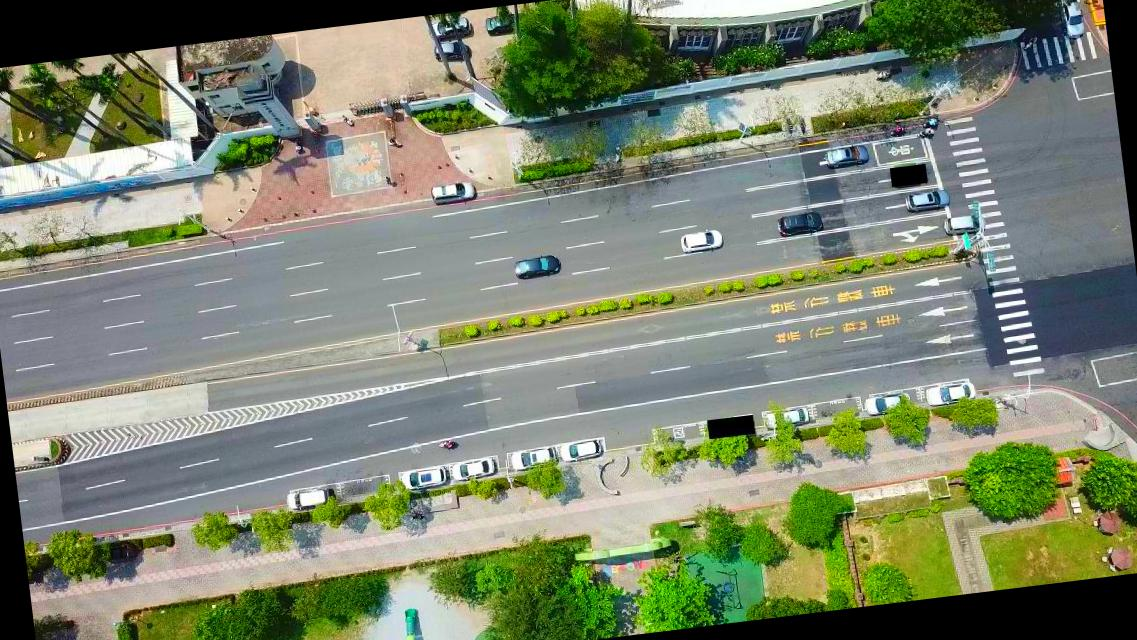vehicle: (510, 254, 560, 282), (776, 208, 822, 236), (862, 390, 910, 416), (428, 178, 476, 204), (924, 381, 975, 405), (508, 444, 554, 470), (450, 456, 494, 482), (399, 466, 446, 490), (680, 228, 722, 253), (428, 16, 470, 41), (904, 189, 949, 212), (825, 144, 868, 168), (284, 486, 330, 508), (486, 12, 524, 38), (558, 440, 601, 462), (1061, 0, 1086, 37), (764, 408, 808, 428), (943, 214, 982, 234), (432, 40, 468, 61)
